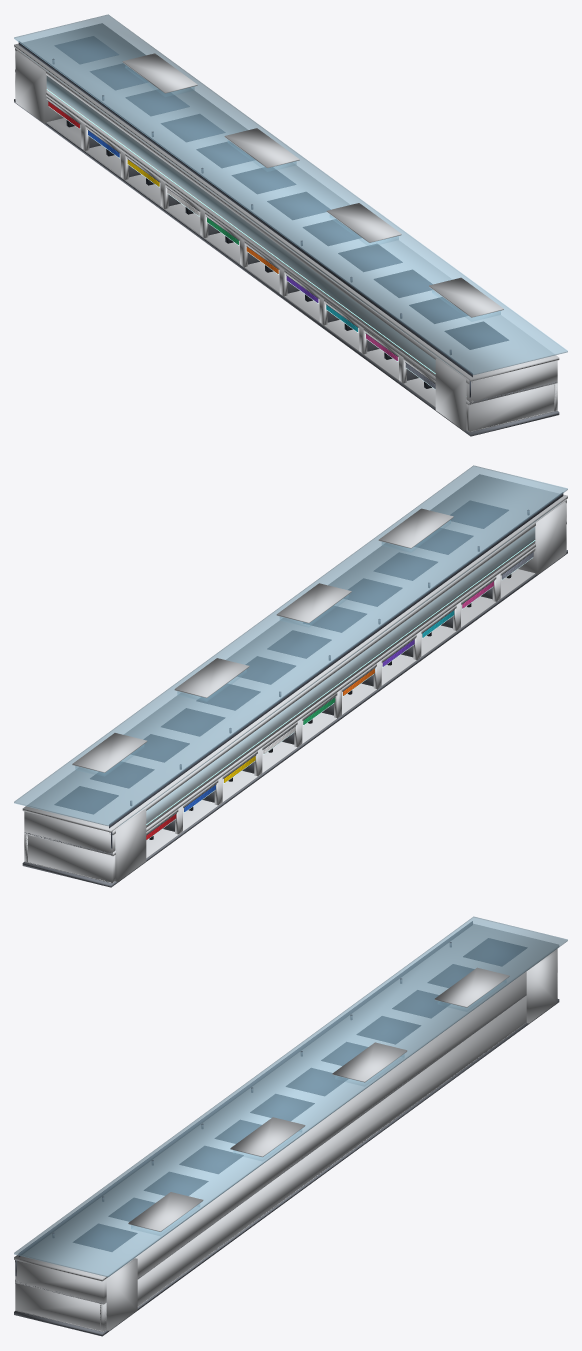
The model's file is futuristic_pit_building.glb.
The picture shows the model from 3 angles, top to bottom: view 1: azimuth 30°, elevation 25°; view 2: azimuth 150°, elevation 25°; view 3: azimuth 330°, elevation 25°; orthographic projection.
Visible parts, largest first — view 1: Surface_concrete, Surface_roof_glass, Surface_solar, Surface_glass, Surface_concrete_dark, Surface_steel, Surface_accent; view 2: Surface_concrete, Surface_roof_glass, Surface_solar, Surface_glass, Surface_concrete_dark, Surface_steel, Surface_accent; view 3: Surface_concrete, Surface_roof_glass, Surface_solar, Surface_concrete_dark, Surface_steel.
Boxes of the visible parts, bbox=[...] form: Surface_concrete: bbox=[14, 23, 559, 432]; Surface_roof_glass: bbox=[14, 14, 567, 374]; Surface_solar: bbox=[54, 36, 508, 349]; Surface_glass: bbox=[23, 53, 500, 373]; Surface_concrete_dark: bbox=[14, 99, 559, 436]; Surface_steel: bbox=[18, 41, 472, 397]; Surface_accent: bbox=[46, 89, 435, 373]; Surface_concrete: bbox=[22, 474, 567, 883]; Surface_roof_glass: bbox=[14, 465, 567, 825]; Surface_solar: bbox=[54, 500, 508, 814]; Surface_glass: bbox=[76, 504, 558, 824]; Surface_concrete_dark: bbox=[22, 550, 567, 887]; Surface_steel: bbox=[109, 492, 563, 848]; Surface_accent: bbox=[146, 540, 535, 824]; Surface_concrete: bbox=[14, 924, 558, 1332]; Surface_roof_glass: bbox=[14, 916, 567, 1276]; Surface_solar: bbox=[73, 938, 527, 1251]; Surface_concrete_dark: bbox=[14, 994, 559, 1336]; Surface_steel: bbox=[15, 921, 472, 1276].
Bounding box in the file's own units: 20 × 12.53 × 162.
